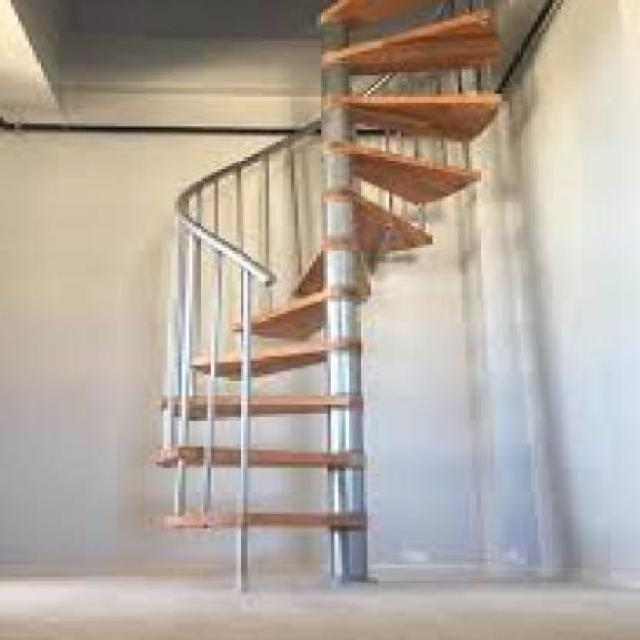stair: (135, 0, 528, 580)
